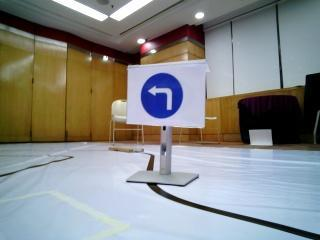left: (130, 66, 201, 128)
